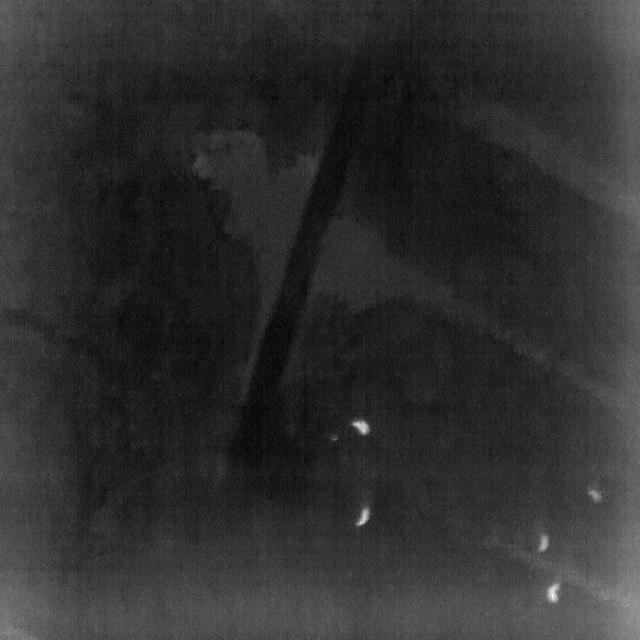deer: (350, 418, 370, 436), (586, 484, 604, 503), (546, 582, 561, 604), (355, 506, 370, 528), (536, 532, 550, 554)
